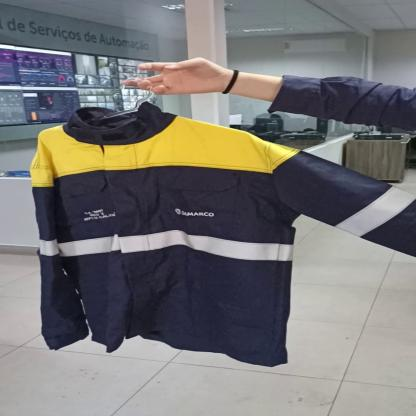C_eletrica: (28, 106, 416, 368)
